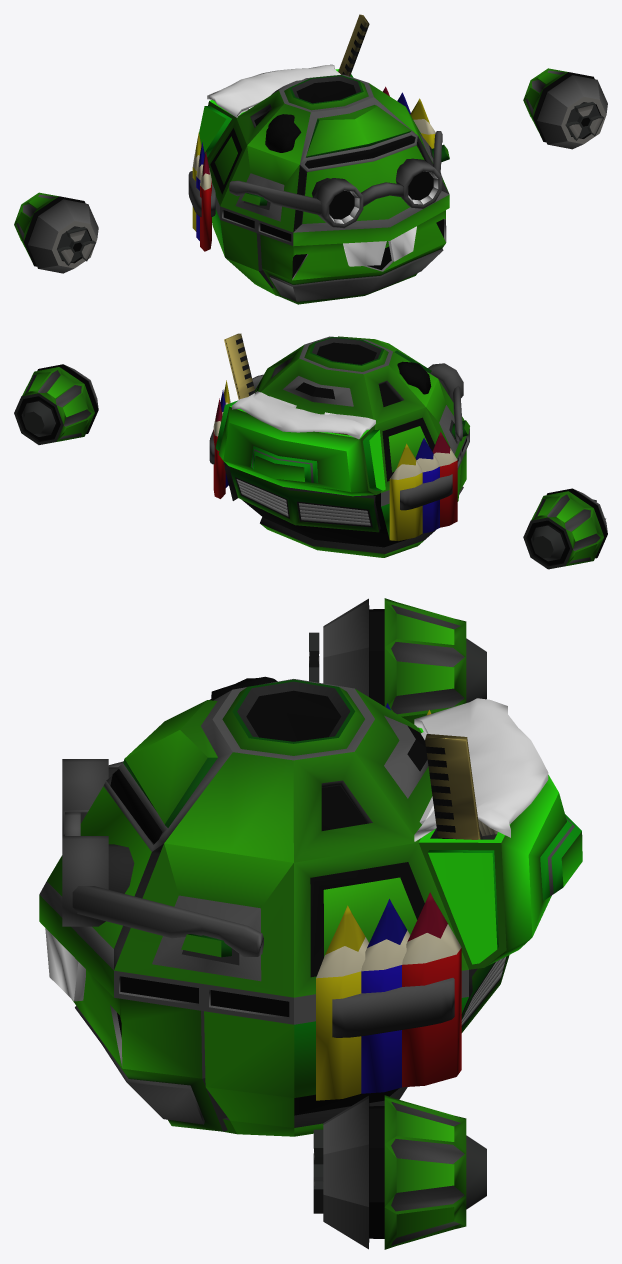
Rendered from BOULDER.fbx.
The picture shows the model from 3 angles, top to bottom: view 1: azimuth 30°, elevation 25°; view 2: azimuth 150°, elevation 25°; view 3: azimuth 270°, elevation 25°; orthographic projection. The views are drawn at different scales.
Parts seen in each view (by area): view 1: Boulder, Jaw, L Arm, R Arm, Цилиндр.001, Куб.005, Куб.001, Конус.001, Куб.004, R Plopper, L Plopper, Конус.005 (+1 smaller); view 2: Boulder, L Arm, R Arm, Куб.005, Конус.006, Конус.001, Конус.002, Куб.004, Куб.006, Конус.003, Цилиндр.001, Куб.001; view 3: Boulder, L Arm, R Arm, Jaw, Куб.005, Конус.003, Цилиндр.001, Конус.005, Куб, Конус.004, Куб.007, Куб.004 (+1 smaller).
Boxes of the visible parts, box(x1,y1,x2,y2) form: Boulder: box(199, 69, 449, 296); Jaw: box(260, 210, 446, 304); L Arm: box(523, 68, 607, 149); R Arm: box(14, 192, 98, 273); Цилиндр.001: box(312, 158, 442, 228); Куб.005: box(207, 64, 340, 117); Куб.001: box(229, 180, 321, 215); Конус.001: box(200, 151, 211, 251); Куб.004: box(338, 14, 369, 76); R Plopper: box(57, 226, 95, 265); L Plopper: box(565, 102, 604, 140); Конус.005: box(410, 98, 435, 148); Boulder: box(215, 336, 469, 557); L Arm: box(14, 364, 98, 444); R Arm: box(523, 488, 607, 569); Куб.005: box(232, 391, 375, 439); Конус.006: box(389, 443, 422, 540); Конус.001: box(432, 432, 457, 527); Конус.002: box(415, 438, 439, 533); Куб.004: box(224, 333, 255, 399); Куб.006: box(400, 474, 452, 510); Конус.003: box(213, 398, 225, 498); Цилиндр.001: box(428, 363, 463, 401); Куб.001: box(453, 386, 462, 441); Boulder: box(39, 676, 582, 1136); L Arm: box(323, 1095, 486, 1249); R Arm: box(323, 598, 486, 724); Jaw: box(72, 969, 227, 1131); Куб.005: box(414, 698, 548, 841); Конус.003: box(402, 892, 461, 1087); Цилиндр.001: box(62, 759, 134, 926); Конус.005: box(316, 905, 368, 1100); Куб: box(72, 886, 263, 956); Конус.004: box(361, 899, 410, 1093); Куб.007: box(332, 978, 454, 1037); Куб.004: box(425, 734, 480, 839).
Bounding box in the file's own units: 260 × 87.44 × 105.
